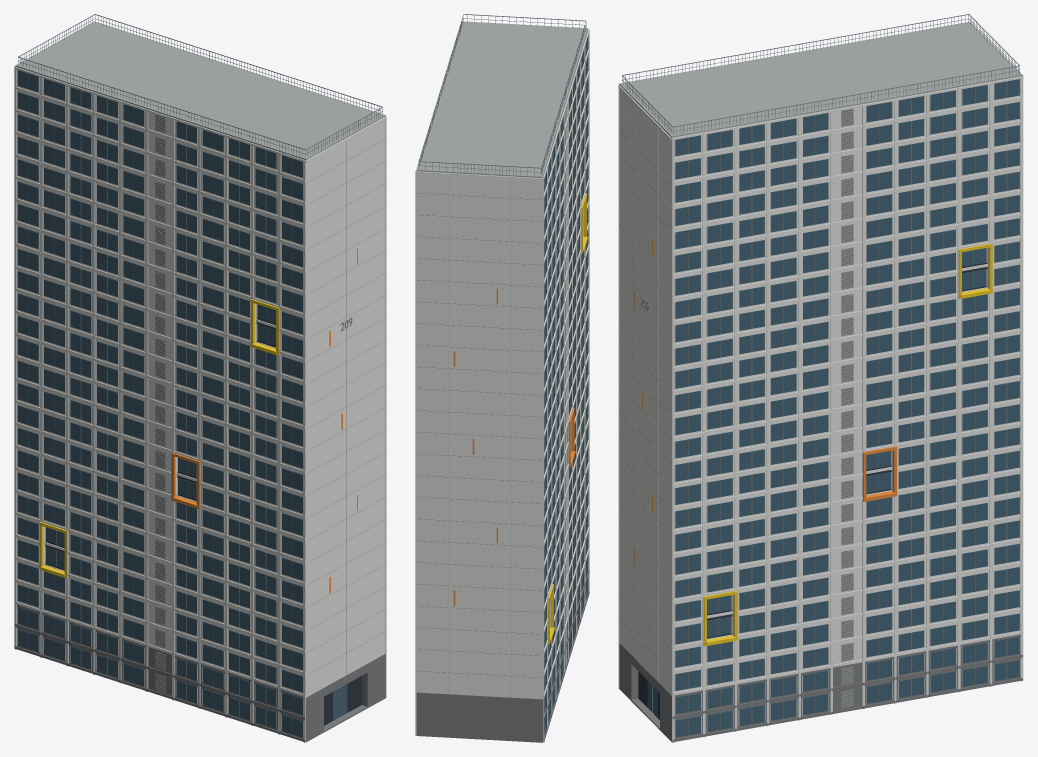
Rendered from bespoke-songpa-helio-city-209.glb.
The picture shows the model from 3 angles, left to right: view 1: azimuth 30°, elevation 25°; view 2: azimuth 150°, elevation 25°; view 3: azimuth 270°, elevation 25°; orthographic projection. The views are drawn at different scales.
Parts seen in each view (by area): view 1: Helio209_editable_Helio209_white_slab_frames, Helio209_editable_Helio209_dark_blue_grey_glazing, Helio209_editable_Helio209_low_roof_deck, Helio209_editable_Helio209_grey_service_grille, Helio209_editable_Helio209_dark_grey_twofloor_base, Helio209_editable_Helio209_blankwall_grey_panels, Helio209_editable_Helio209_yellow_projecting_rectangular_fra, Helio209_editable_Helio209_deep_shaded_frame_recess, Helio209_editable_Helio209_orange_narrow_accent; view 2: Helio209_editable_Helio209_white_slab_frames, Helio209_editable_Helio209_low_roof_deck, Helio209_editable_Helio209_dark_blue_grey_glazing, Helio209_editable_Helio209_grey_service_grille, Helio209_editable_Helio209_dark_grey_twofloor_base, Helio209_editable_Helio209_blankwall_grey_panels, Helio209_editable_Helio209_yellow_projecting_rectangular_fra, Helio209_editable_Helio209_orange_narrow_accent; view 3: Helio209_editable_Helio209_white_slab_frames, Helio209_editable_Helio209_dark_blue_grey_glazing, Helio209_editable_Helio209_low_roof_deck, Helio209_editable_Helio209_grey_service_grille, Helio209_editable_Helio209_dark_grey_twofloor_base, Helio209_editable_Helio209_blankwall_grey_panels, Helio209_editable_Helio209_yellow_projecting_rectangular_fra, Helio209_editable_Helio209_deep_shaded_frame_recess, Helio209_editable_Helio209_orange_narrow_accent.
Part boxes in pixels (left/top/right/bottom): Helio209_editable_Helio209_white_slab_frames: left=14, top=66, right=386, bottom=742; Helio209_editable_Helio209_dark_blue_grey_glazing: left=17, top=70, right=347, bottom=737; Helio209_editable_Helio209_low_roof_deck: left=15, top=21, right=385, bottom=160; Helio209_editable_Helio209_grey_service_grille: left=18, top=14, right=385, bottom=733; Helio209_editable_Helio209_dark_grey_twofloor_base: left=14, top=604, right=385, bottom=742; Helio209_editable_Helio209_blankwall_grey_panels: left=155, top=115, right=346, bottom=692; Helio209_editable_Helio209_yellow_projecting_rectangular_fra: left=39, top=299, right=279, bottom=578; Helio209_editable_Helio209_deep_shaded_frame_recess: left=45, top=318, right=361, bottom=725; Helio209_editable_Helio209_orange_narrow_accent: left=171, top=248, right=357, bottom=592; Helio209_editable_Helio209_white_slab_frames: left=415, top=22, right=589, bottom=742; Helio209_editable_Helio209_low_roof_deck: left=416, top=21, right=588, bottom=177; Helio209_editable_Helio209_dark_blue_grey_glazing: left=544, top=36, right=588, bottom=734; Helio209_editable_Helio209_grey_service_grille: left=417, top=14, right=586, bottom=731; Helio209_editable_Helio209_dark_grey_twofloor_base: left=416, top=570, right=589, bottom=742; Helio209_editable_Helio209_blankwall_grey_panels: left=448, top=106, right=566, bottom=697; Helio209_editable_Helio209_yellow_projecting_rectangular_fra: left=546, top=193, right=587, bottom=644; Helio209_editable_Helio209_orange_narrow_accent: left=453, top=288, right=575, bottom=605; Helio209_editable_Helio209_white_slab_frames: left=618, top=27, right=1023, bottom=742; Helio209_editable_Helio209_dark_blue_grey_glazing: left=647, top=79, right=1019, bottom=737; Helio209_editable_Helio209_low_roof_deck: left=619, top=21, right=1022, bottom=137; Helio209_editable_Helio209_grey_service_grille: left=619, top=14, right=1019, bottom=735; Helio209_editable_Helio209_dark_grey_twofloor_base: left=619, top=634, right=1022, bottom=742; Helio209_editable_Helio209_blankwall_grey_panels: left=632, top=101, right=853, bottom=707; Helio209_editable_Helio209_yellow_projecting_rectangular_fra: left=703, top=243, right=992, bottom=646; Helio209_editable_Helio209_deep_shaded_frame_recess: left=638, top=263, right=987, bottom=719; Helio209_editable_Helio209_orange_narrow_accent: left=634, top=239, right=896, bottom=563.
Bounding box in the file's own units: 29.89 × 73.8 × 44.15.
